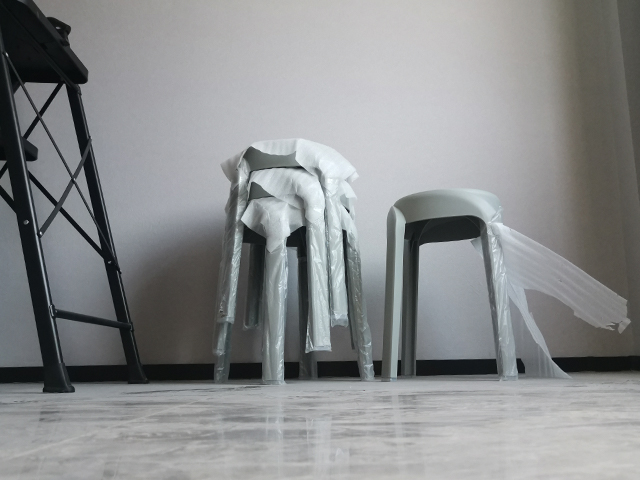stool: (210, 136, 375, 385), (380, 186, 519, 381)
